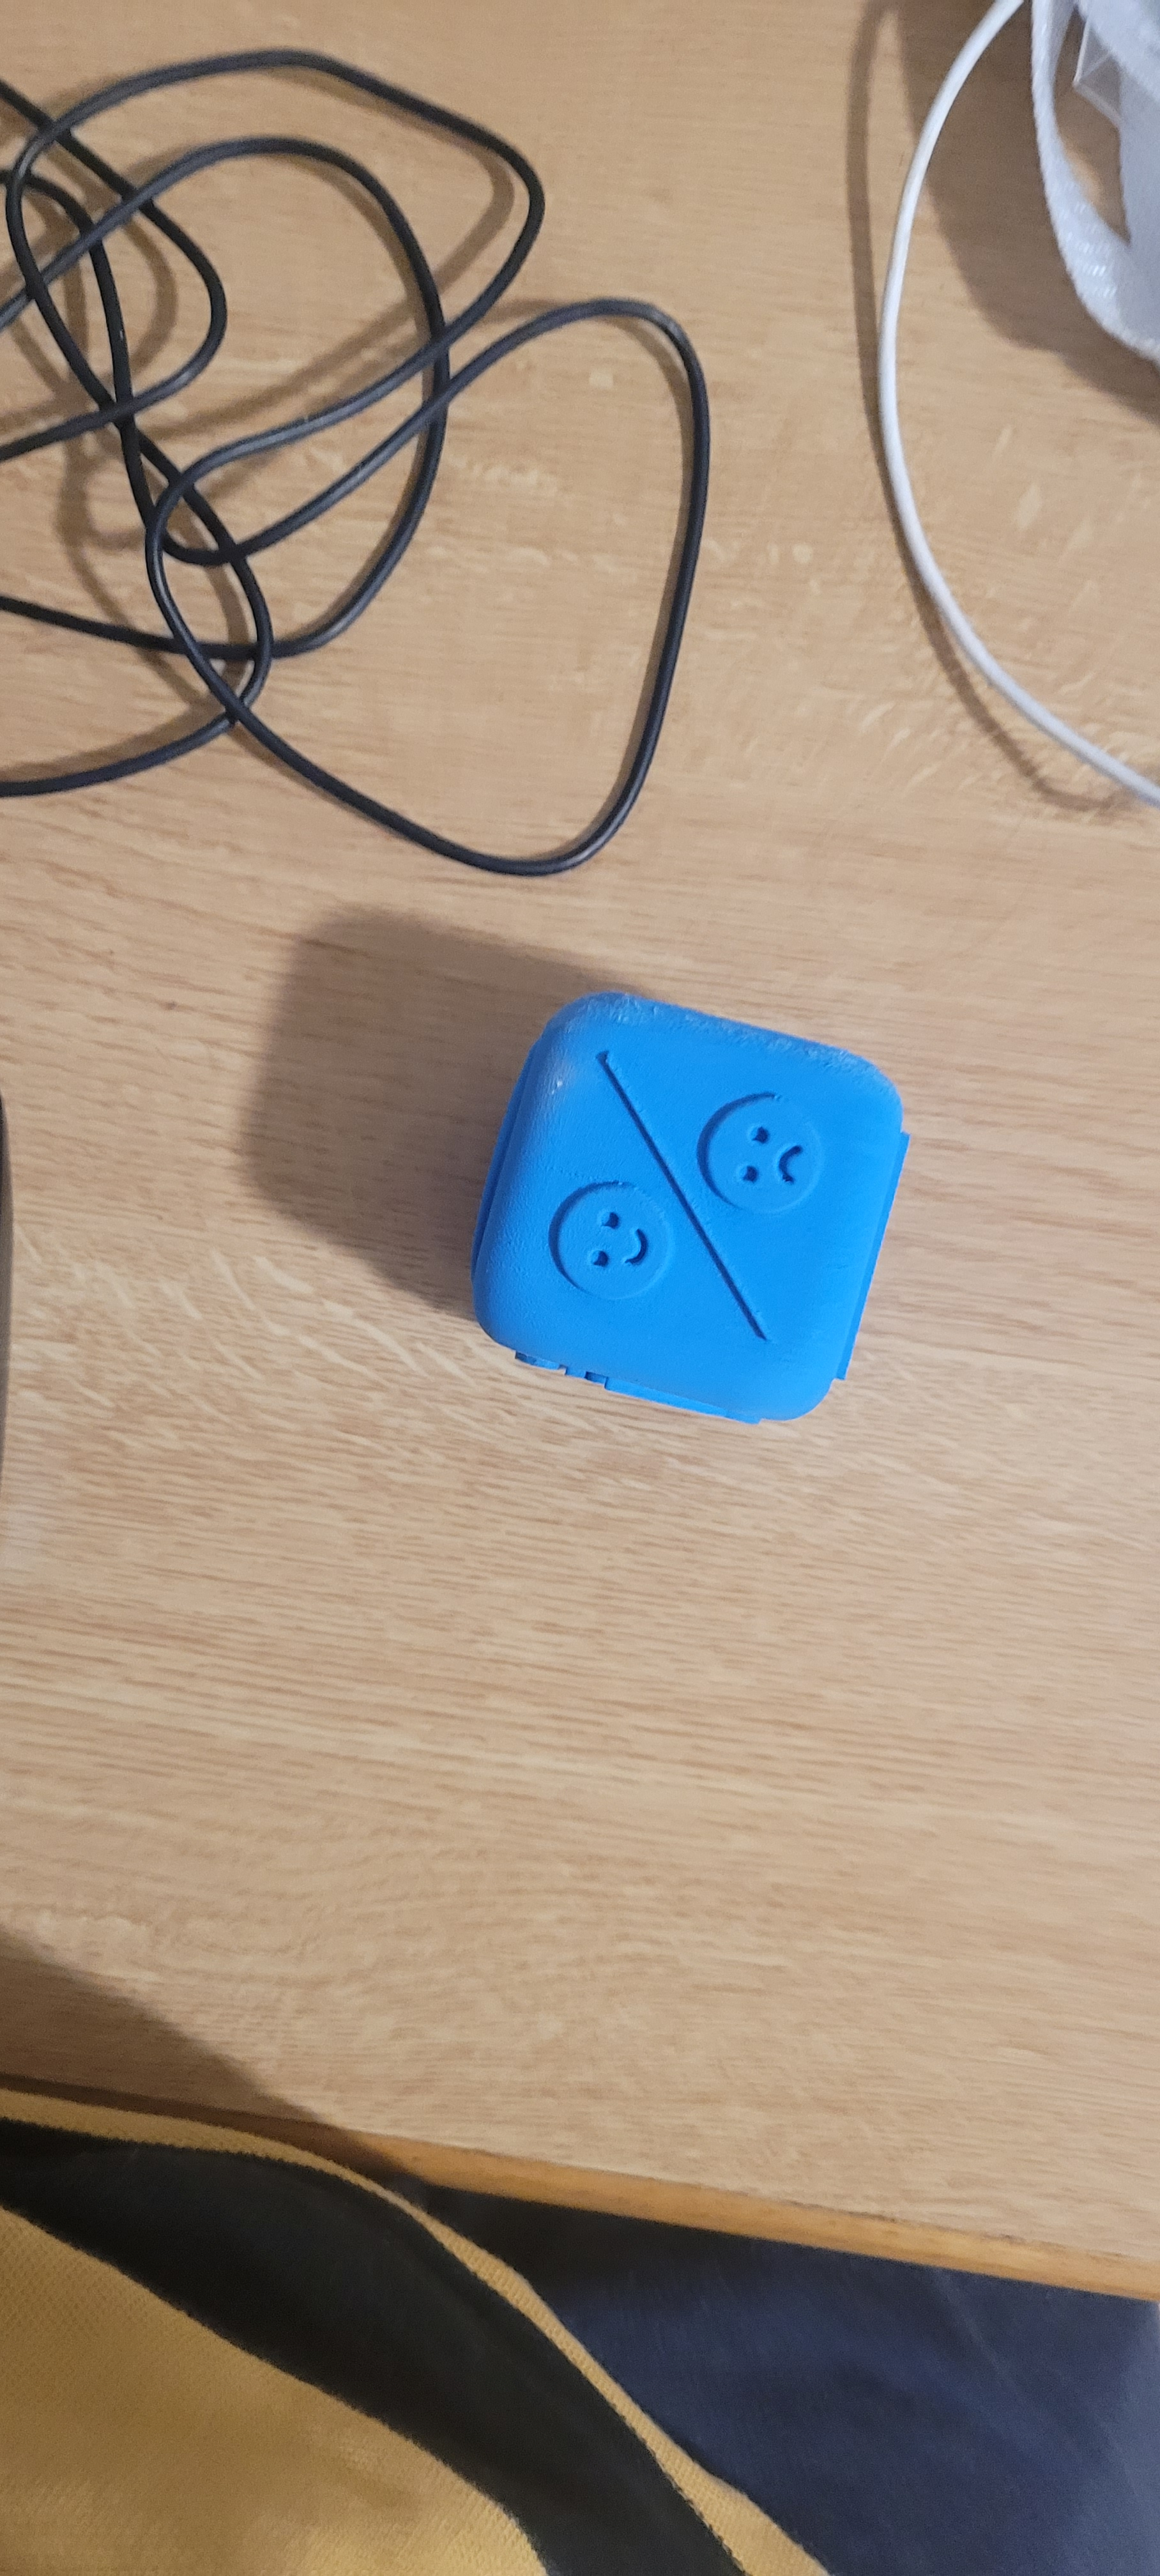Like/Dislike: (509, 1010, 854, 1410)
